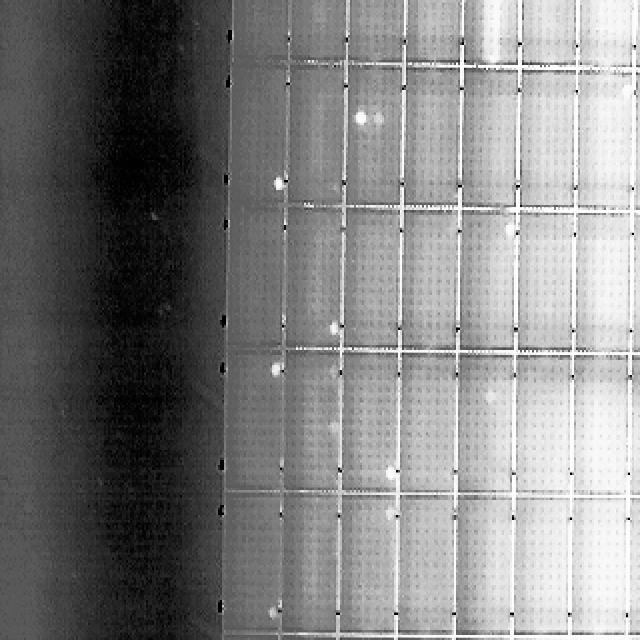Hotspots: (347, 107, 376, 131), (324, 319, 345, 348), (380, 462, 397, 491), (270, 172, 288, 199), (617, 76, 635, 102), (266, 356, 286, 379), (378, 498, 397, 522)
PV-modules: (278, 490, 339, 632), (282, 204, 342, 348), (228, 202, 288, 346), (280, 356, 340, 499), (349, 62, 409, 205), (229, 60, 289, 203), (344, 357, 404, 500), (342, 491, 403, 631), (515, 360, 575, 502), (402, 63, 462, 205), (285, 61, 344, 204), (224, 489, 283, 632), (347, 213, 406, 356), (570, 361, 629, 503), (573, 67, 632, 209), (518, 208, 577, 350), (400, 210, 459, 352), (452, 359, 510, 502), (520, 65, 578, 208), (398, 358, 456, 501), (571, 209, 629, 351), (457, 64, 515, 206), (226, 355, 284, 497), (514, 493, 572, 631), (569, 502, 627, 640), (398, 492, 456, 630), (456, 207, 512, 349), (452, 492, 509, 631), (572, 0, 632, 72), (404, 0, 464, 70), (352, 0, 410, 68), (462, 0, 520, 68), (522, 0, 578, 65), (286, 0, 346, 60), (232, 0, 290, 60), (626, 498, 640, 632), (632, 360, 640, 500), (634, 218, 640, 358), (636, 68, 640, 208), (638, 0, 640, 75)
